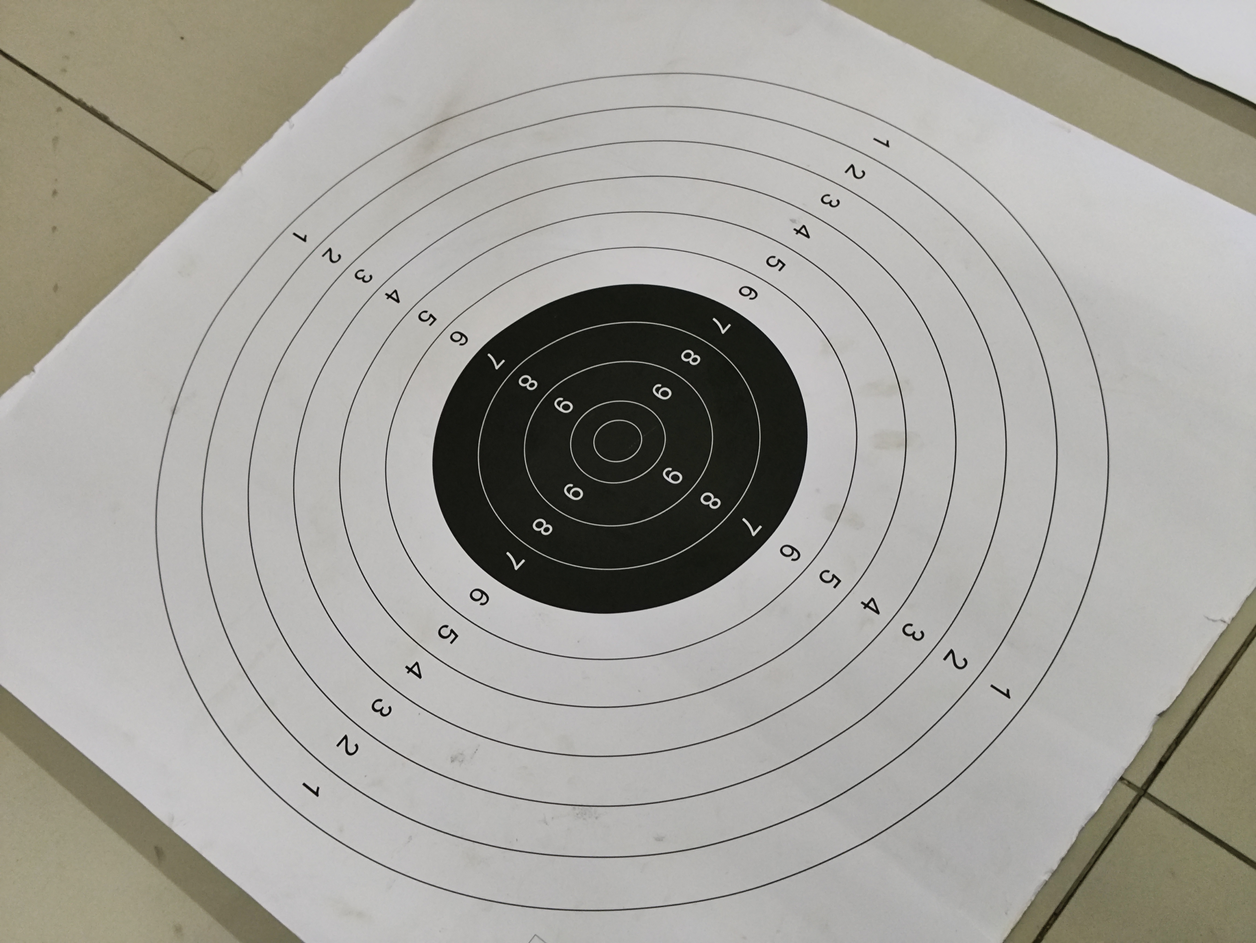target: (133, 27, 1138, 934)
